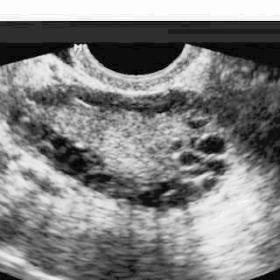PCOS: (198, 135, 228, 155), (82, 171, 114, 187), (55, 147, 81, 164), (208, 159, 228, 176), (176, 152, 200, 166), (49, 135, 72, 148), (72, 158, 88, 173), (136, 189, 151, 205), (155, 181, 171, 194)
